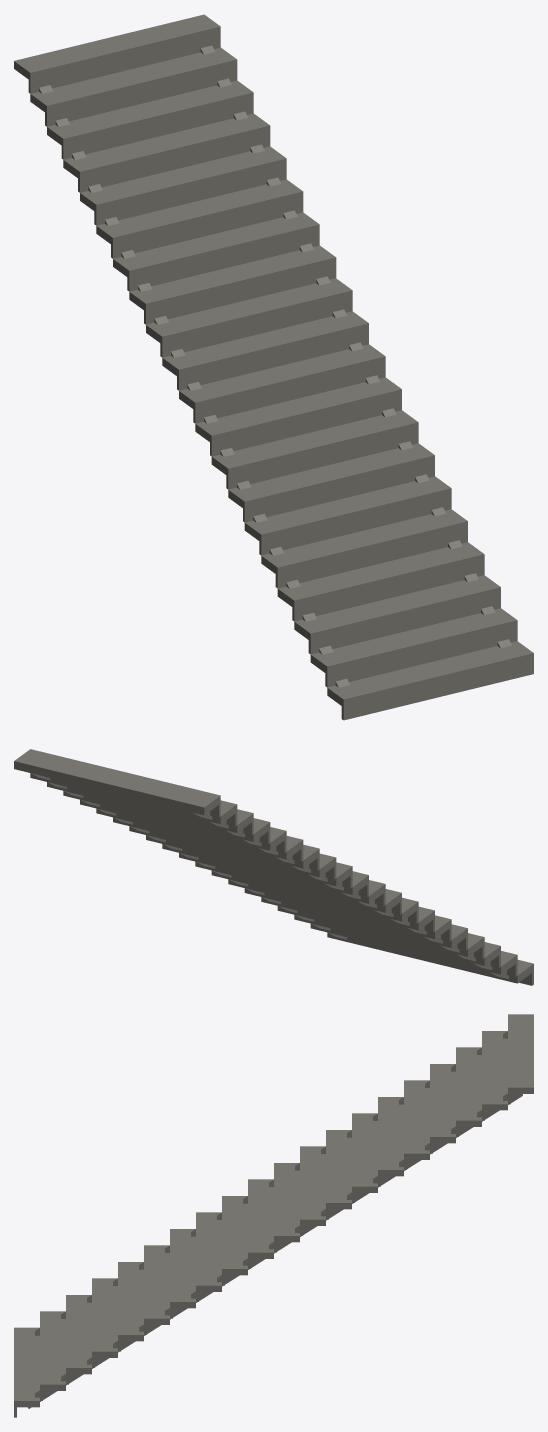
Rendered from OA_Stair_Ground_20_Steps.fbx.
3 renders of one model, top to bottom at view 1: azimuth 30°, elevation 25°; view 2: azimuth 150°, elevation 25°; view 3: azimuth 270°, elevation 25°, orthographic. The views are drawn at different scales.
Visible parts, largest first — view 1: OA_Stair_Ground_20_Steps; view 2: OA_Stair_Ground_20_Steps; view 3: OA_Stair_Ground_20_Steps.
Boxes of the visible parts, bbox=[...] form: OA_Stair_Ground_20_Steps: bbox=[14, 14, 533, 720]; OA_Stair_Ground_20_Steps: bbox=[14, 749, 533, 985]; OA_Stair_Ground_20_Steps: bbox=[14, 1014, 533, 1417].
Bounding box in the file's own units: 2 × 4.2 × 6.
1 material, 1 textured.
